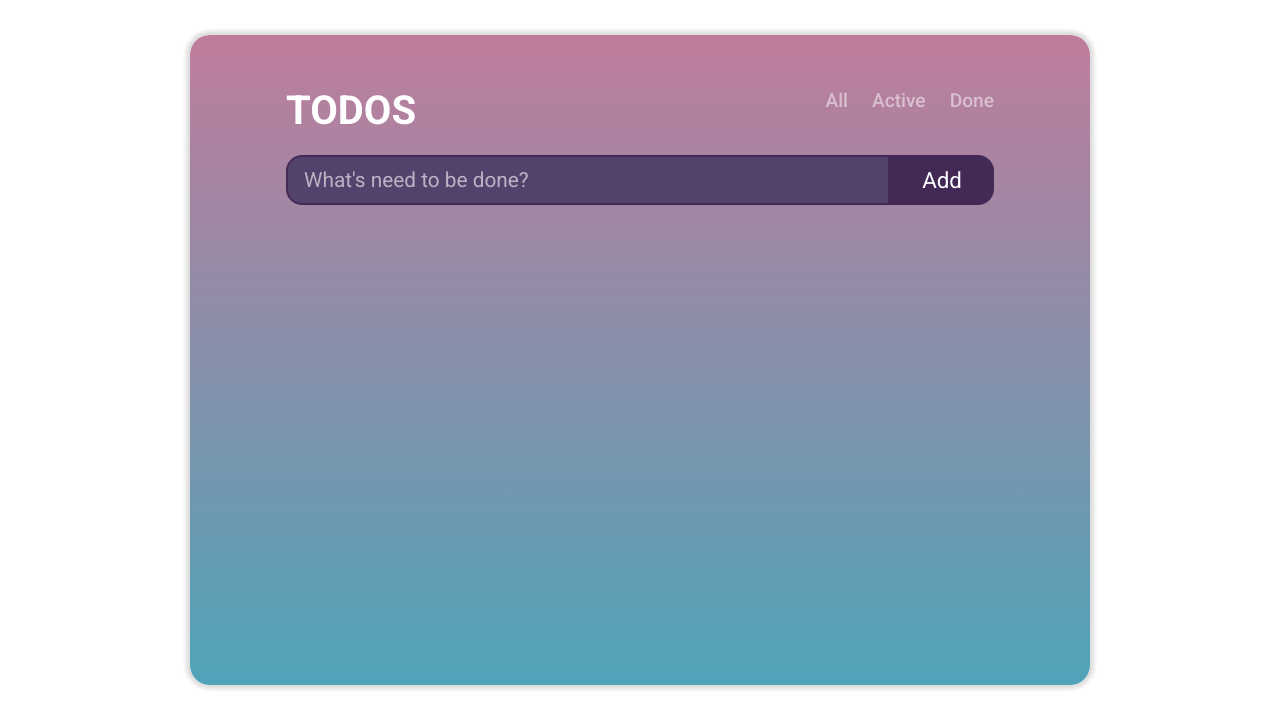
Scenario: Todo actions › Delete todo
Check: the text "Test Todo" is not shown
In the field with test id "add-todo-input": (588, 180) [286,155,890,205], type "Test Todo"
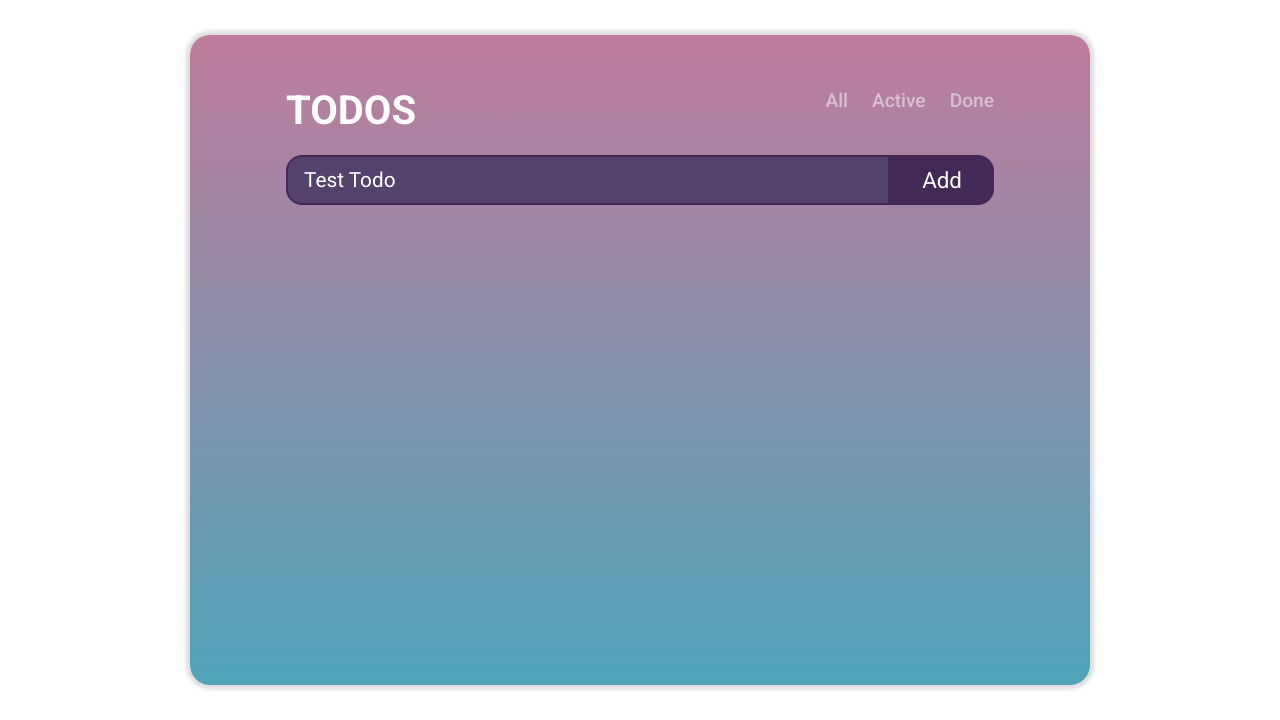
Click the button with test id "add-todo-btn": (942, 180) [890,155,994,205]
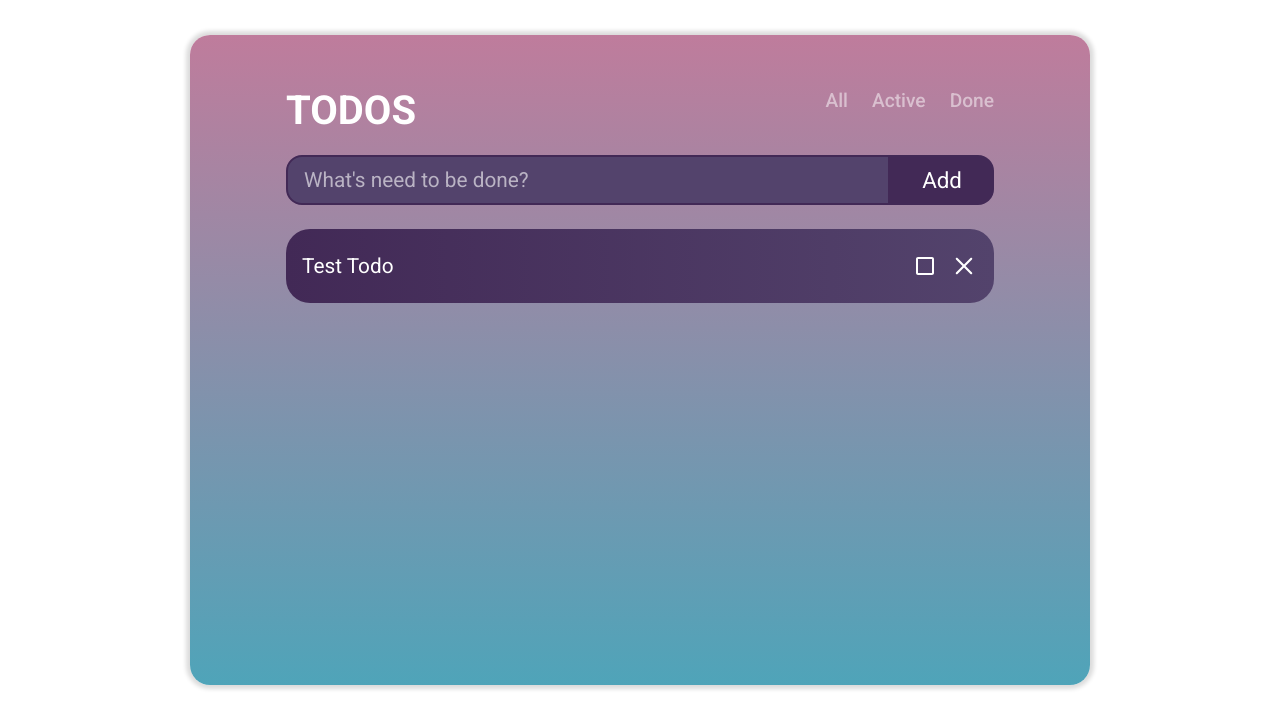
Check: the list item "Test Todo" is shown, box [286,229,994,303]
Click the icon with test id "delete-todo-btn": (964, 266) [950,252,978,280]
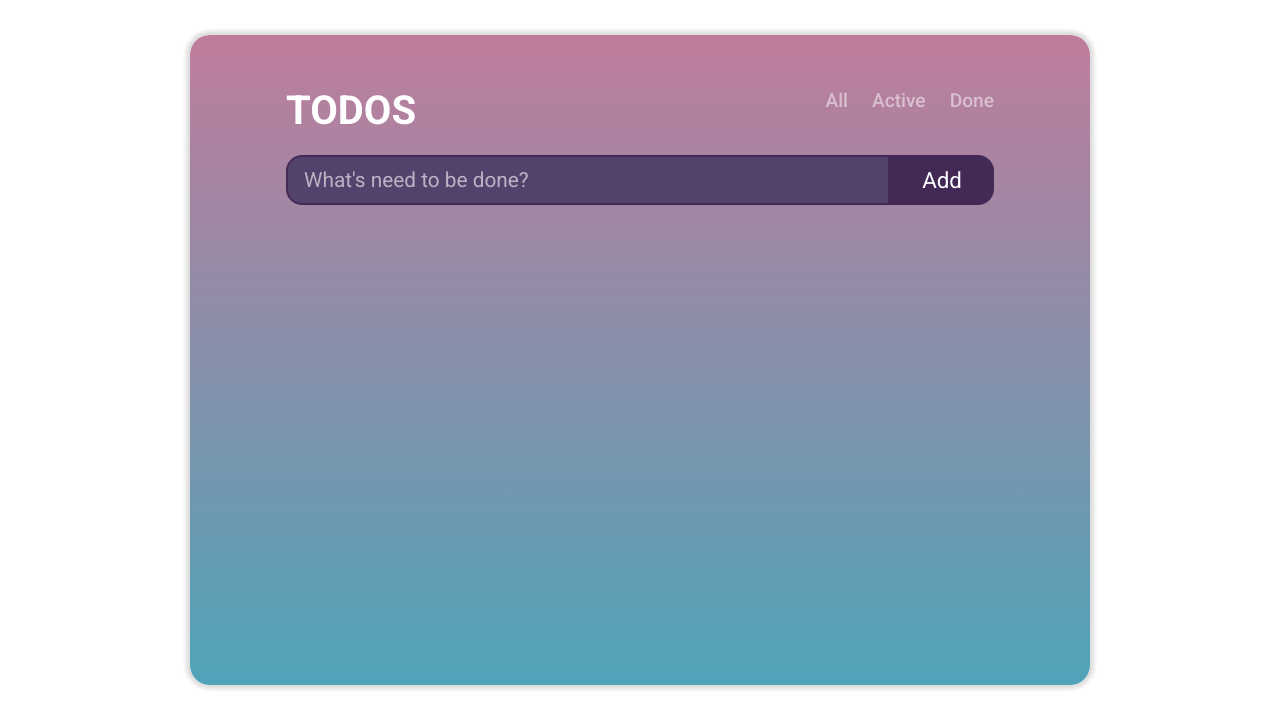
Check: the list item "Test Todo" is gone
